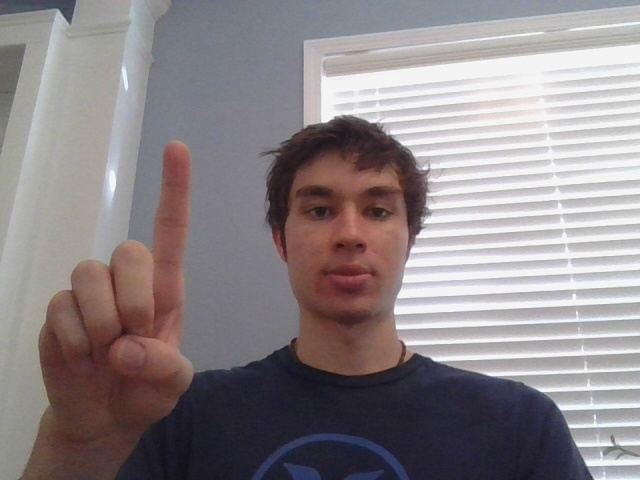d: (26, 133, 207, 424)
